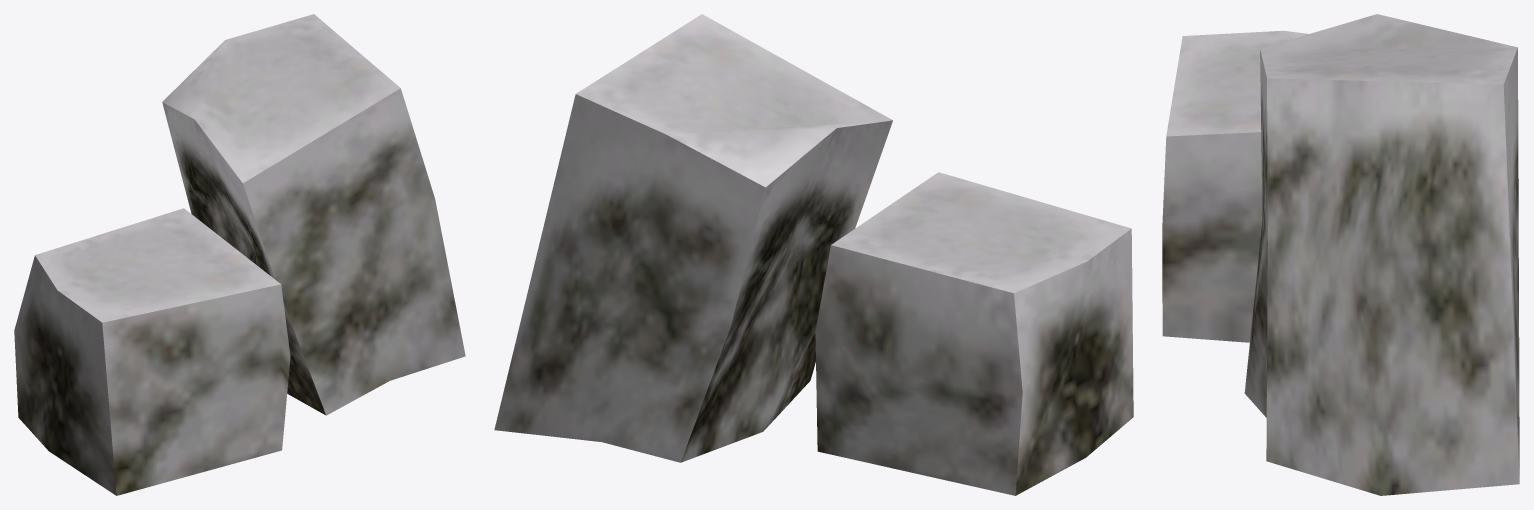
File: ob-bigstone04_lod_01.glb
3 renders of one model, left to right at view 1: azimuth 30°, elevation 25°; view 2: azimuth 150°, elevation 25°; view 3: azimuth 270°, elevation 25°, orthographic. The views are drawn at different scales.
Visible parts, largest first — view 1: ob-bigstone04; view 2: ob-bigstone04; view 3: ob-bigstone04.
Part boxes in pixels (x1=…): ob-bigstone04: x1=14, y1=14, x2=465, y2=495; ob-bigstone04: x1=494, y1=14, x2=1133, y2=495; ob-bigstone04: x1=1162, y1=14, x2=1519, y2=495.
Size of the model in its own units: 5.46 by 3.7 by 3.27.
1 material, 1 textured.
